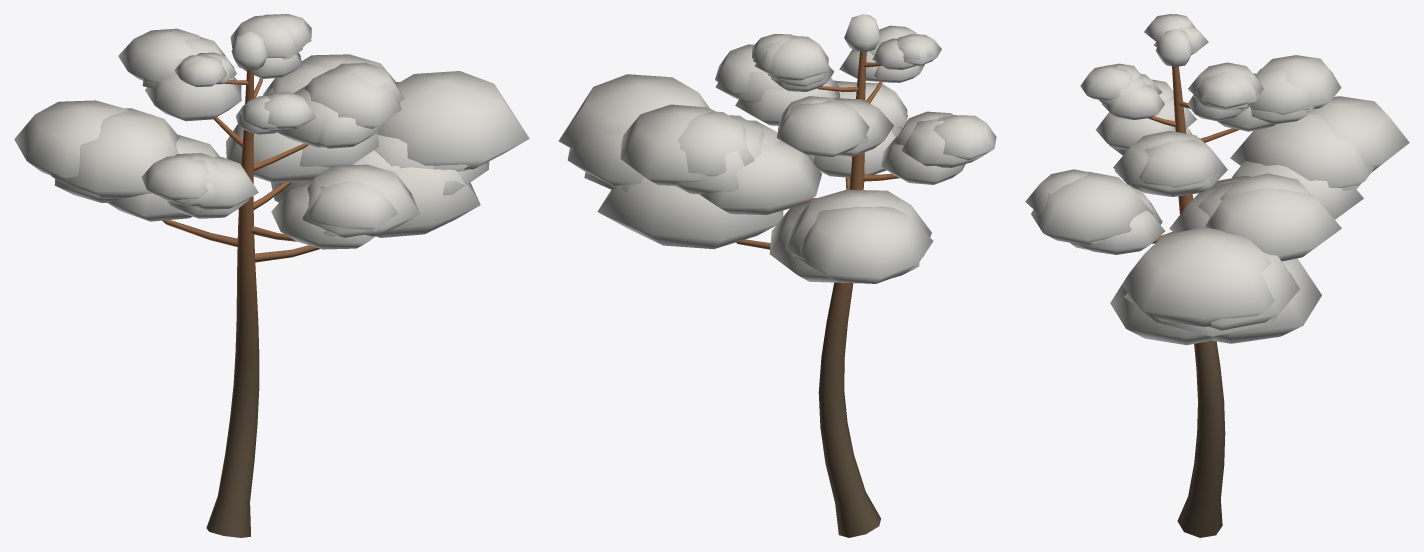
The picture shows the model from 3 angles, left to right: view 1: azimuth 30°, elevation 25°; view 2: azimuth 150°, elevation 25°; view 3: azimuth 270°, elevation 25°; orthographic projection.
Parts seen in each view (by area): view 1: crown, trunk; view 2: crown, trunk; view 3: crown, trunk.
Part boxes in pixels (box(x1,y1,x2,y2)): crown: box(14, 14, 529, 249); trunk: box(162, 69, 319, 537); crown: box(558, 14, 996, 283); trunk: box(736, 51, 899, 537); crown: box(1025, 14, 1409, 345); trunk: box(1148, 66, 1239, 537).
Bounding box in the file's own units: 13.67 × 16.08 × 11.12.
